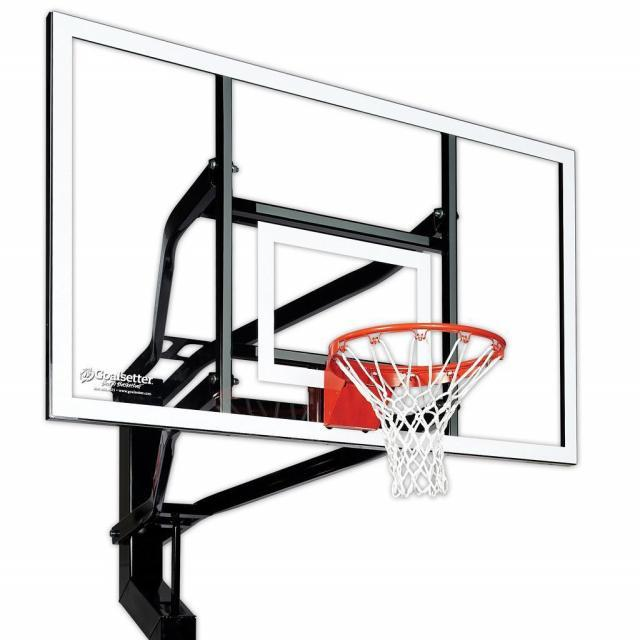hoop: (329, 322, 506, 498)
